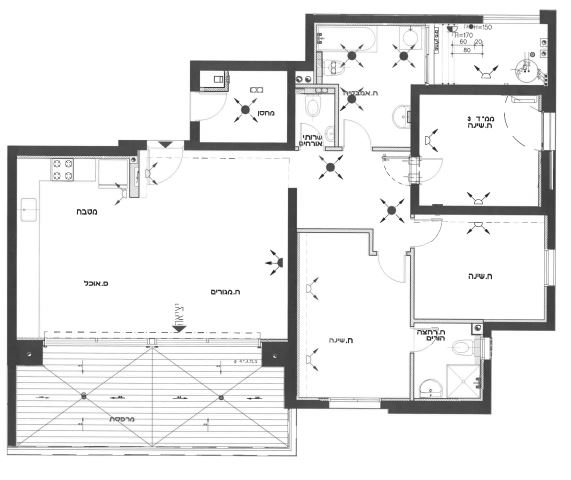door: (187, 84, 231, 129), (143, 140, 183, 185), (295, 121, 328, 155), (340, 119, 373, 153), (375, 249, 408, 283)
wall: (7, 145, 17, 355), (412, 84, 554, 95), (289, 189, 297, 357), (7, 145, 137, 155), (192, 60, 294, 71)
window: (323, 393, 383, 418), (535, 108, 560, 159), (536, 240, 561, 291), (477, 11, 545, 28)
